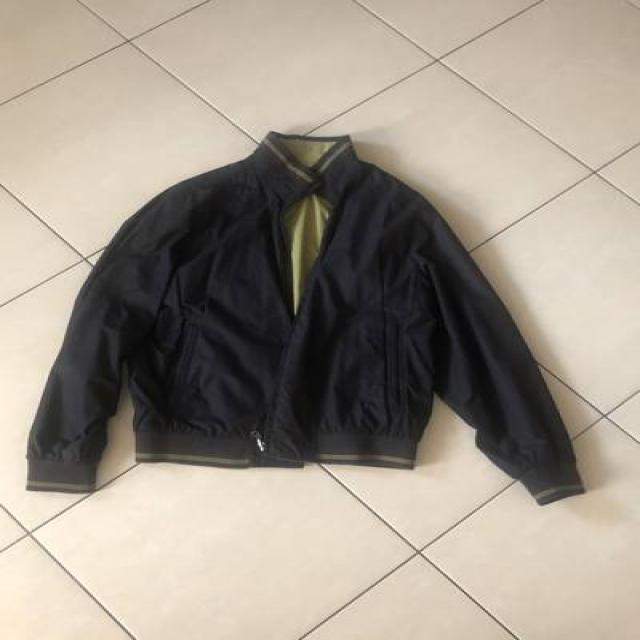Clothes -Biodegradable-: (23, 132, 587, 509)
